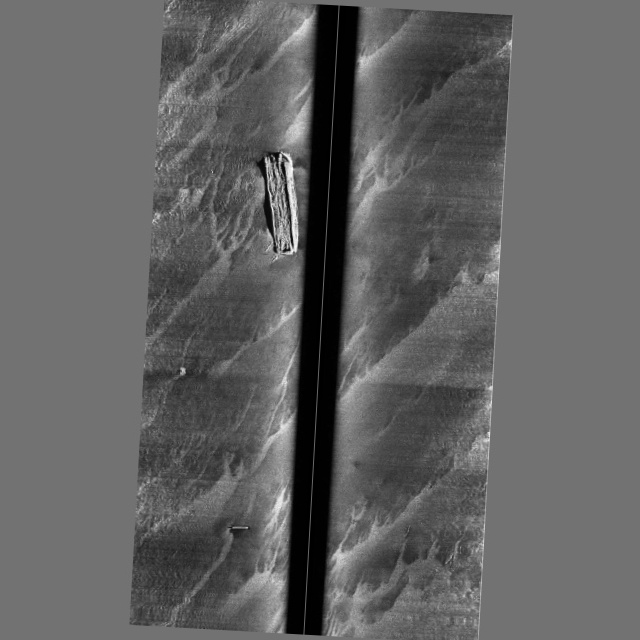Shipwreck: (229, 148, 473, 570)
